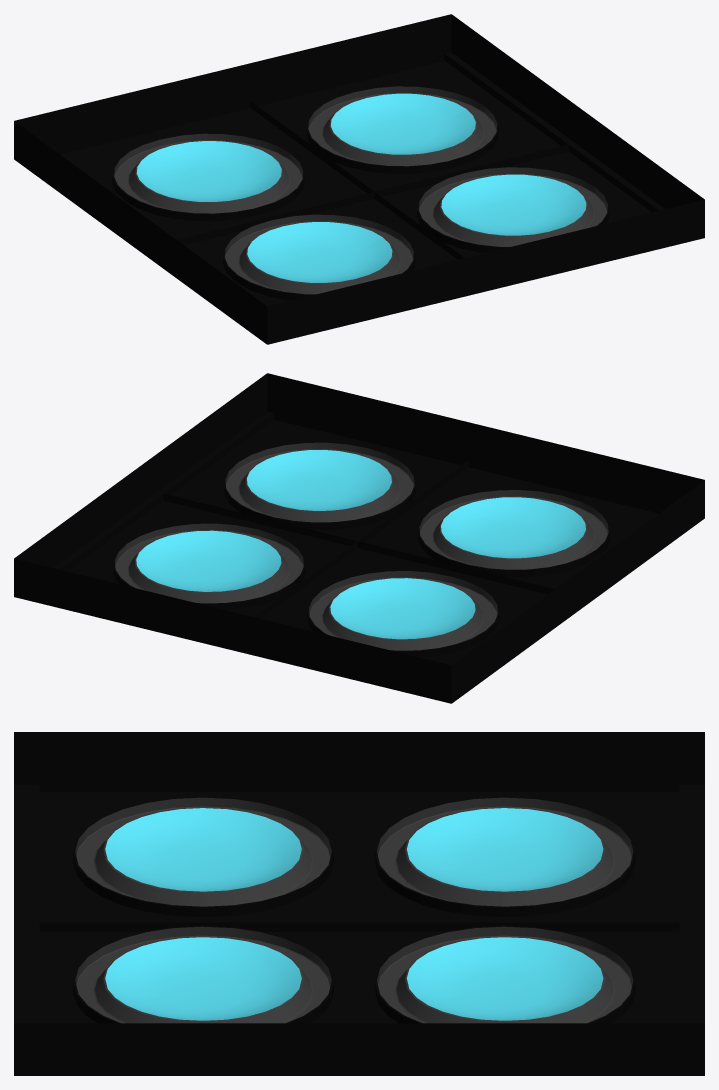
Rendered from SM_Rooflight_020c.FBX.
3 views of the same model, one above another, from view 1: azimuth 30°, elevation 25°; view 2: azimuth 150°, elevation 25°; view 3: azimuth 270°, elevation 25° (orthographic). The views are drawn at different scales.
Parts seen in each view (by area): view 1: SM_Rooflight_020c; view 2: SM_Rooflight_020c; view 3: SM_Rooflight_020c.
Part boxes in pixels (x1,y1,x2,y2): SM_Rooflight_020c: (14,14,704,344); SM_Rooflight_020c: (14,373,704,703); SM_Rooflight_020c: (14,732,704,1075).
Size of the model in its own units: 42.73 by 42.85 by 3.59.
